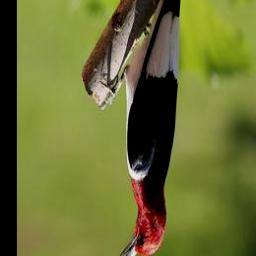Woodpecker: (114, 0, 193, 256)
